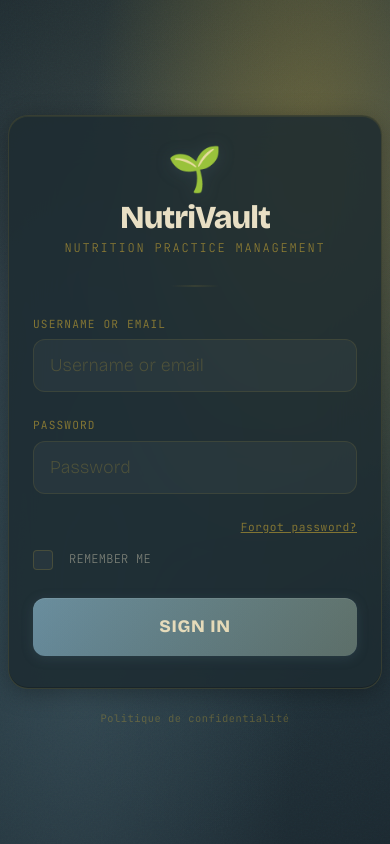
Test case: LoginPage › Form Validation › should show error for short username
Type "ab" into the field labelled "Username or email". click: coordinates (195, 366)
box: [33,339,357,392]
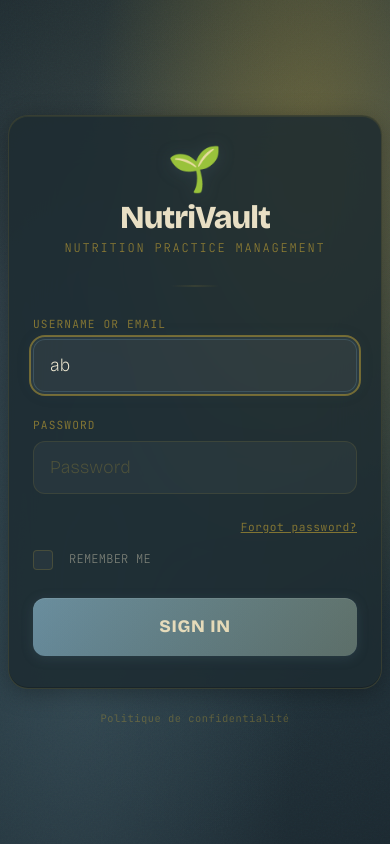
Type "password123" into the password field labelled "Password". click: coordinates (195, 467)
box: [33,441,357,494]
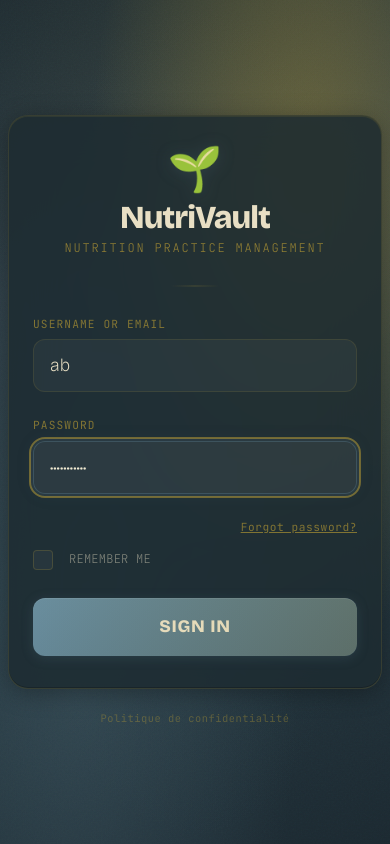
Click the button "Sign In". click: coordinates (195, 627)
box: [33,598,357,656]
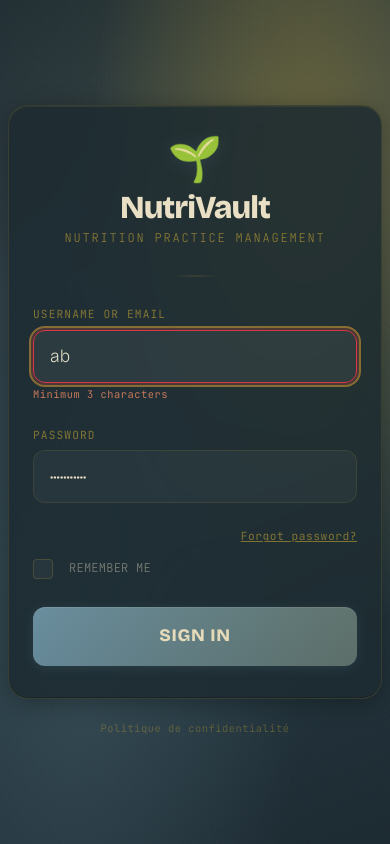
Result: the text "Minimum 3 characters" is shown at [33,387,168,401]
